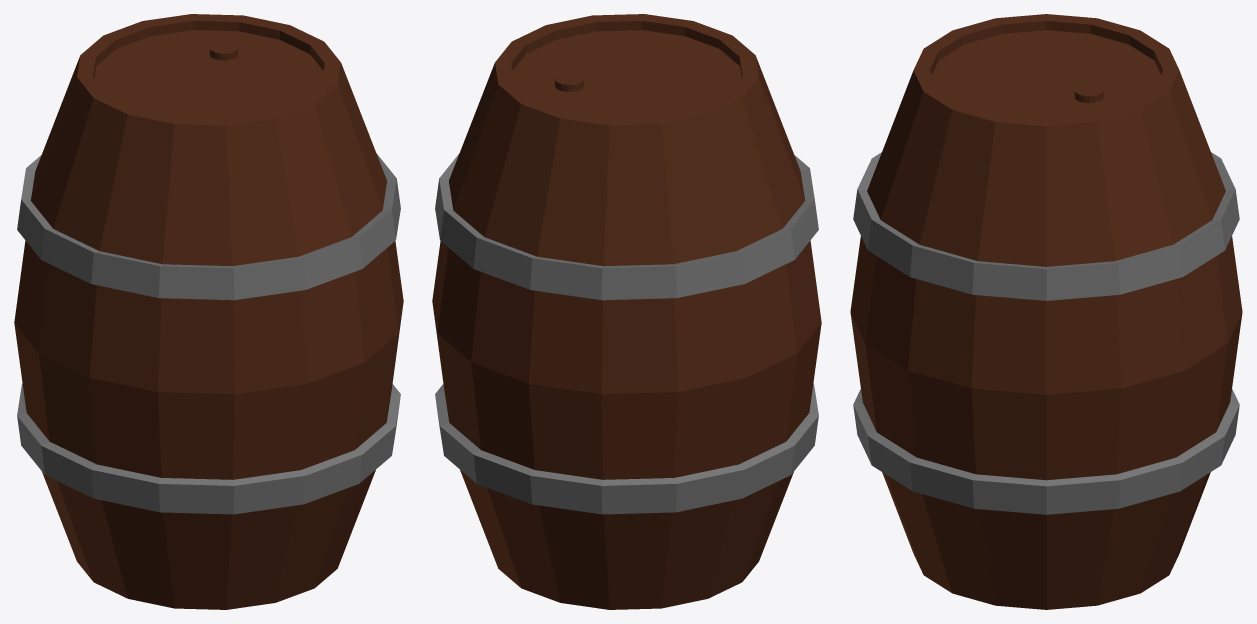
Rendered from Barrel.fbx.
3 renders of one model, left to right at view 1: azimuth 30°, elevation 25°; view 2: azimuth 150°, elevation 25°; view 3: azimuth 270°, elevation 25°, orthographic.
Parts seen in each view (by area): view 1: Barrel; view 2: Barrel; view 3: Barrel.
Part boxes in pixels (<box>): Barrel: <box>14,14,403,609</box>; Barrel: <box>432,14,821,609</box>; Barrel: <box>850,14,1242,609</box>.
Size of the model in its own units: 100 by 136 by 100.
